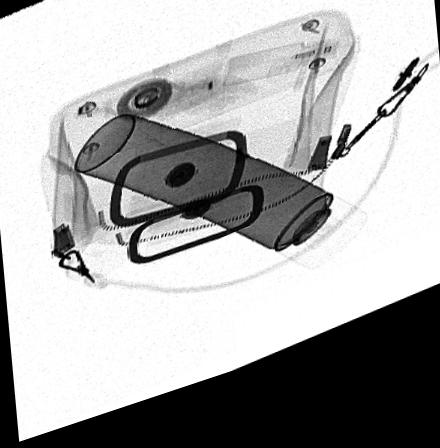Sprayer: (73, 122, 368, 290)
